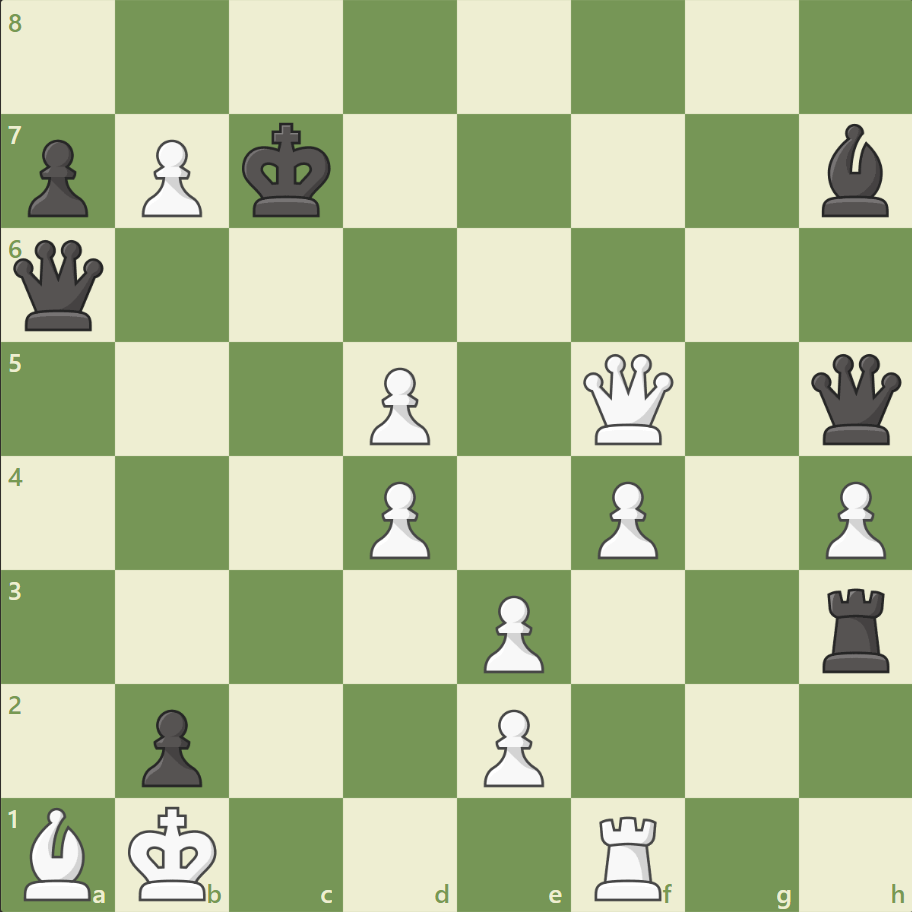B: (17, 801, 101, 904)
K: (124, 798, 224, 906)
P: (133, 132, 208, 223), (474, 586, 549, 677), (474, 700, 549, 791), (361, 359, 435, 450), (361, 473, 435, 564), (588, 473, 662, 564), (815, 473, 889, 564)
Q: (578, 349, 677, 449)
R: (587, 806, 670, 904)
b: (812, 120, 896, 222)
k: (238, 117, 338, 225)
p: (20, 132, 95, 223), (133, 700, 208, 791)
q: (805, 349, 904, 449), (10, 236, 109, 335)
r: (814, 579, 897, 676)
